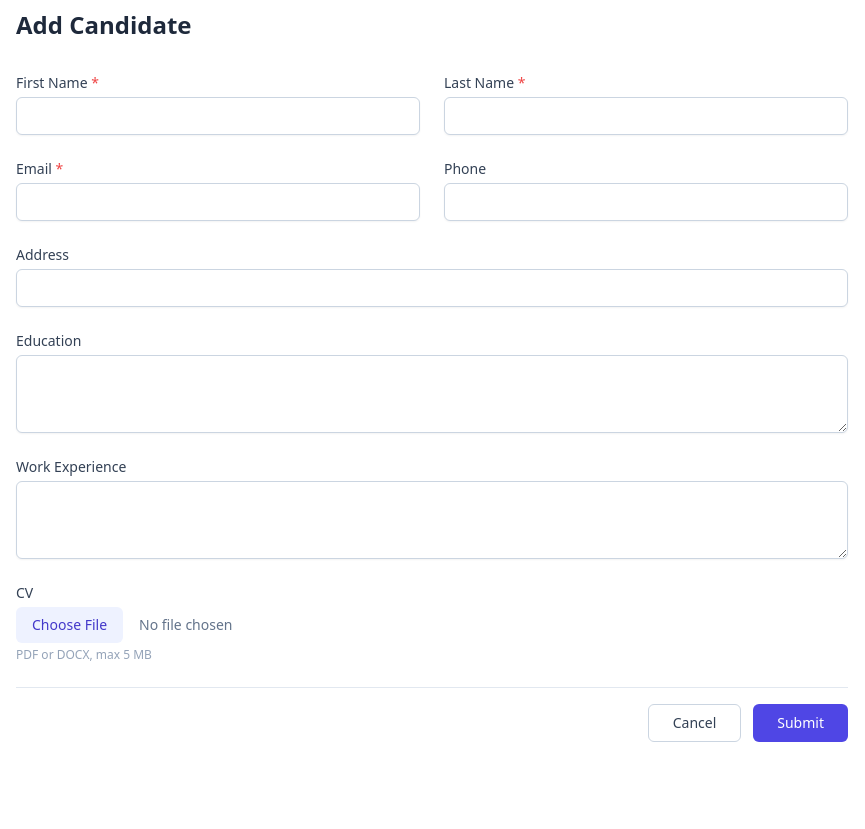
Test: AddCandidate submission › shows success message after successful submission
Type "Alice" into the field labelled "First Name *" at point(218, 116), box [16, 97, 420, 135]
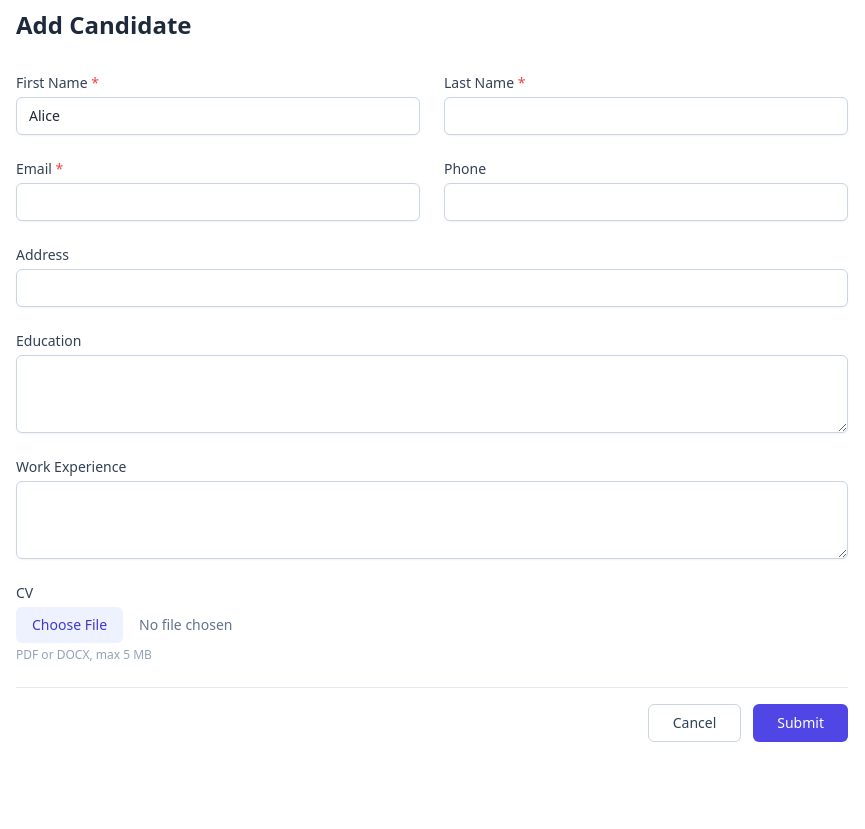
Type "Smith" into the field labelled "Last Name *" at point(646, 116), box [444, 97, 848, 135]
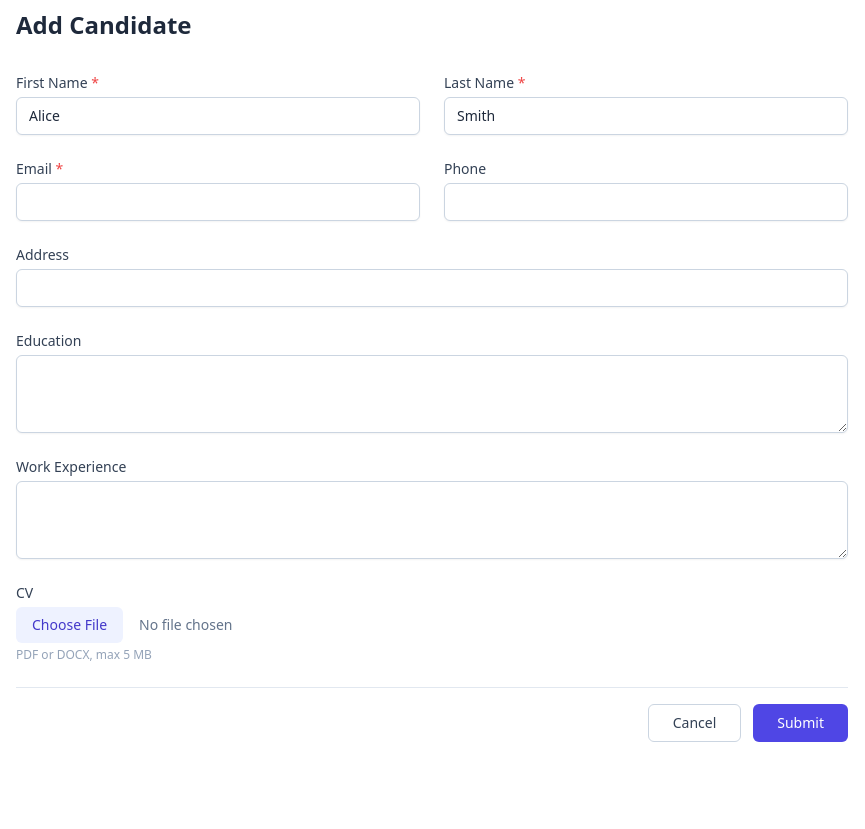
Type "alice@example.com" into the field labelled "Email *" at point(218, 202), box [16, 183, 420, 221]
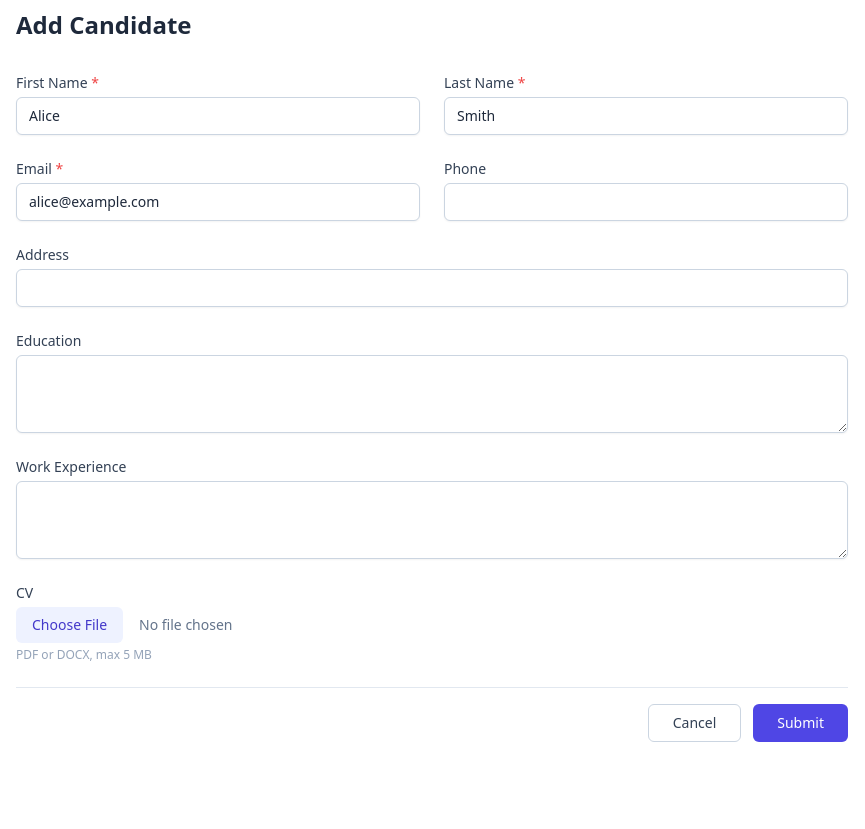
Click the button "Submit" at point(801, 723), box [753, 704, 848, 742]
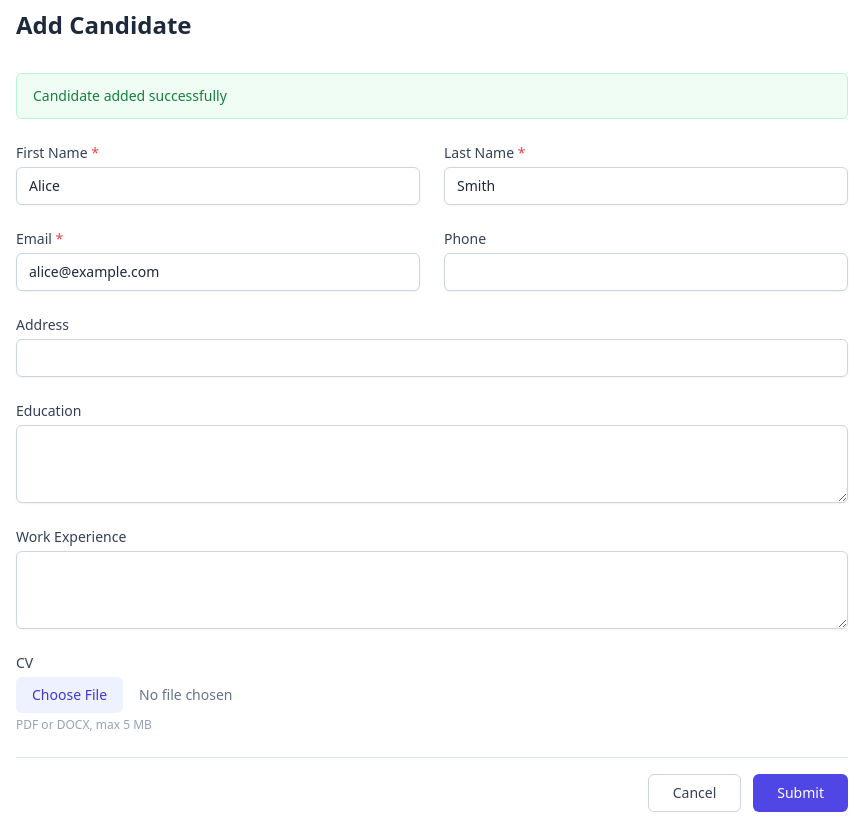
Result: the text "Candidate added successfully" is shown at [16, 73, 848, 119]
